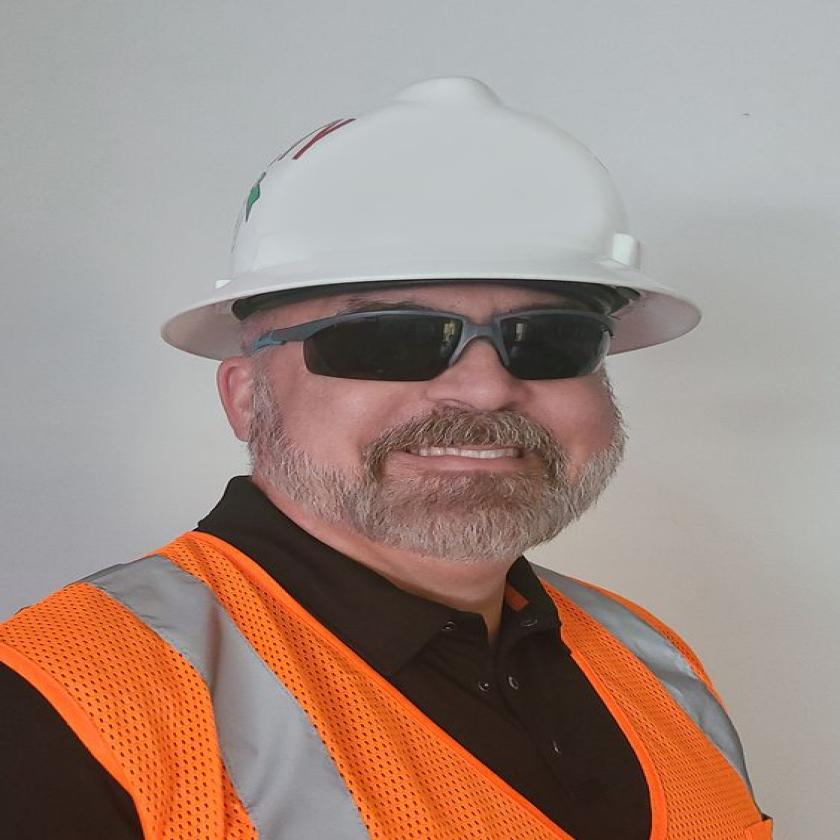Con_casco: (154, 30, 724, 580)
